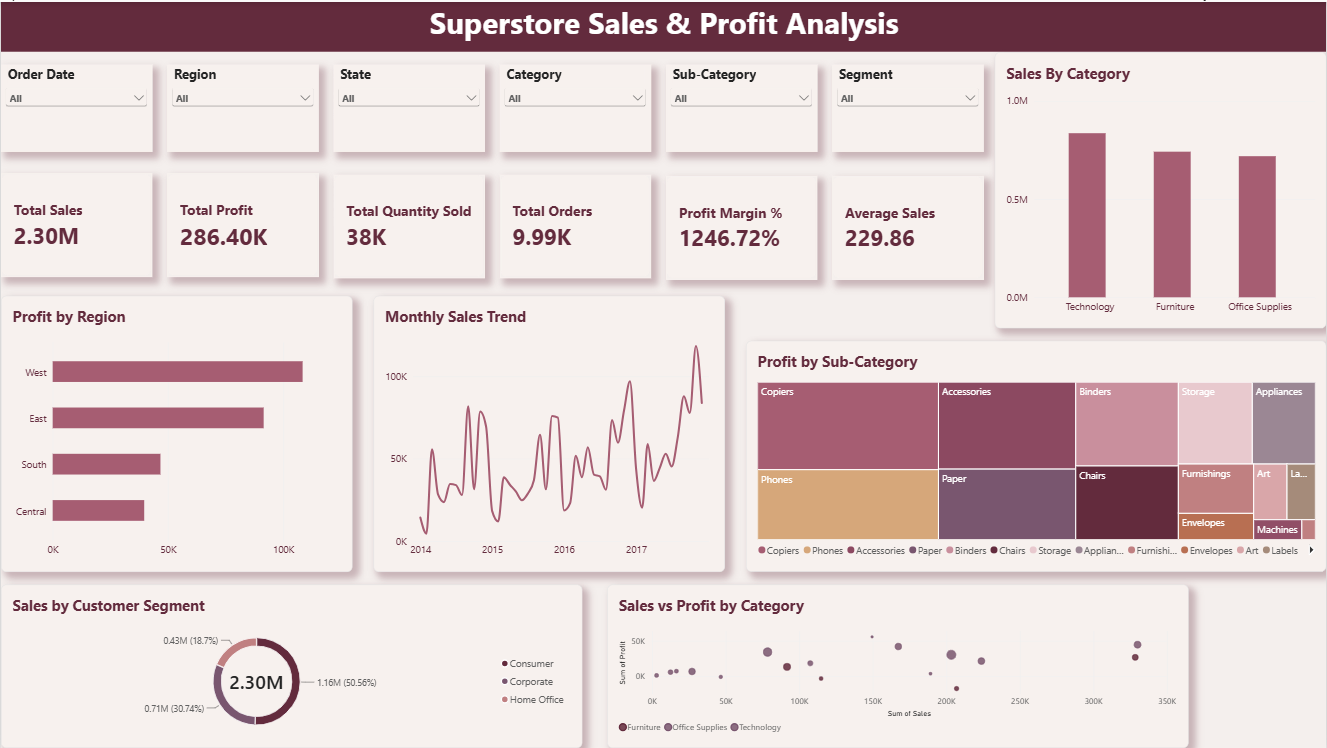

This screenshot's page, from the dashboard's own definition file:
{"tool":"powerbi","page":{"name":"Page 1","canvas":[1920,1080],"ordinal":0},"visuals":[{"type":"textbox","box":[0,0,1920.4,72],"z":0},{"type":"slicer","fields":{"Values":["superstore_sales.Order Date"]},"box":[0,90.5,219,126.7],"z":1000},{"type":"slicer","fields":{"Values":["superstore_sales.Region"]},"box":[240.7,90.5,219,126.7],"z":2000},{"type":"slicer","fields":{"Values":["superstore_sales.State"]},"box":[481.4,90.5,219,126.7],"z":3000},{"type":"slicer","fields":{"Values":["superstore_sales.Category"]},"box":[722.1,90.5,219,126.7],"z":4000},{"type":"slicer","fields":{"Values":["superstore_sales.Sub-Category"]},"box":[962.7,90.5,219,126.7],"z":5000},{"type":"slicer","fields":{"Values":["superstore_sales.Segment"]},"box":[1203.4,90.5,219,126.7],"z":6000},{"type":"cardVisual","title":"Total Sales\\\\\\\\\\\\","fields":{"Data":["Sum(superstore_sales.Sales)"]},"box":[0,247.9,219,150],"z":7000},{"type":"cardVisual","title":"Total Sales\\\\\\\\\\\\","fields":{"Data":["Sum(superstore_sales.Profit)"]},"box":[240.7,247.9,219,150],"z":8000},{"type":"cardVisual","title":"Total Sales\\\\\\\\\\\\","fields":{"Data":["Sum(superstore_sales.Quantity)"]},"box":[481.4,249.7,219,150],"z":9000},{"type":"cardVisual","title":"Total Sales\\\\\\\\\\\\","fields":{"Data":["CountNonNull(superstore_sales.Quantity)"]},"box":[722.1,249.7,219,150],"z":10000},{"type":"cardVisual","title":"Total Sales\\\\\\\\\\\\","fields":{"Data":["superstore_sales.Profit Margin %"]},"box":[962.7,251.5,219,150],"z":11000},{"type":"cardVisual","title":"Total Sales\\\\\\\\\\\\","fields":{"Data":["superstore_sales.Average Sales"]},"box":[1203.4,251.5,219,150],"z":12000},{"type":"clusteredColumnChart","title":"Sales By Category","fields":{"Category":["superstore_sales.Category"],"Y":["Sum(superstore_sales.Sales)"]},"box":[1438.7,72.4,481.4,399.9],"z":13000},{"type":"clusteredBarChart","title":"Profit by Region ","fields":{"Category":["superstore_sales.Region"],"Y":["Sum(superstore_sales.Profit)"]},"box":[0,425.3,508.5,399.9],"z":14000},{"type":"lineChart","title":"Monthly Sales Trend","fields":{"Category":["superstore_sales.Order Date.Variation.Date Hierarchy.Year","superstore_sales.Order Date.Variation.Date Hierarchy.Month"],"Y":["Sum(superstore_sales.Sales)"]},"box":[539.3,425.3,508.5,399.9],"z":15000},{"type":"treemap","title":"Profit by Sub-Category","fields":{"Group":["superstore_sales.Sub-Category"],"Values":["Sum(superstore_sales.Profit)"]},"box":[1078.5,490.4,841.5,334.8],"z":15001},{"type":"donutChart","title":"Sales by Customer Segment","fields":{"Category":["superstore_sales.Segment"],"Y":["Sum(superstore_sales.Sales)"]},"box":[0,843.3,841.5,237.1],"z":15002},{"type":"scatterChart","title":"Sales vs Profit by Category","fields":{"Category":["superstore_sales.Sub-Category"],"Series":["superstore_sales.Category"],"Size":["Sum(superstore_sales.Quantity)"],"X":["Sum(superstore_sales.Sales)"],"Y":["Sum(superstore_sales.Profit)"]},"box":[877.7,843.3,841.5,237.1],"z":15003}]}

Visuals, with their boxes in screenshot pixels (x1, y1, x2, y2), scaled from the page's 1920x1080 canvas onto the 1327x748 screenshot:
textbox: [x1=0, y1=0, x2=1326, y2=50]
slicer - superstore_sales.Order Date: [x1=0, y1=63, x2=151, y2=150]
slicer - superstore_sales.Region: [x1=166, y1=63, x2=318, y2=150]
slicer - superstore_sales.State: [x1=333, y1=63, x2=484, y2=150]
slicer - superstore_sales.Category: [x1=499, y1=63, x2=650, y2=150]
slicer - superstore_sales.Sub-Category: [x1=665, y1=63, x2=817, y2=150]
slicer - superstore_sales.Segment: [x1=832, y1=63, x2=983, y2=150]
"Total Sales\\\\\\" cardVisual: [x1=0, y1=172, x2=151, y2=276]
"Total Sales\\\\\\" cardVisual: [x1=166, y1=172, x2=318, y2=276]
"Total Sales\\\\\\" cardVisual: [x1=333, y1=173, x2=484, y2=277]
"Total Sales\\\\\\" cardVisual: [x1=499, y1=173, x2=650, y2=277]
"Total Sales\\\\\\" cardVisual: [x1=665, y1=174, x2=817, y2=278]
"Total Sales\\\\\\" cardVisual: [x1=832, y1=174, x2=983, y2=278]
"Sales By Category" clusteredColumnChart: [x1=994, y1=50, x2=1326, y2=327]
"Profit by Region " clusteredBarChart: [x1=0, y1=295, x2=351, y2=572]
"Monthly Sales Trend" lineChart: [x1=373, y1=295, x2=724, y2=572]
"Profit by Sub-Category" treemap: [x1=745, y1=340, x2=1326, y2=572]
"Sales by Customer Segment" donutChart: [x1=0, y1=584, x2=582, y2=747]
"Sales vs Profit by Category" scatterChart: [x1=607, y1=584, x2=1188, y2=747]
